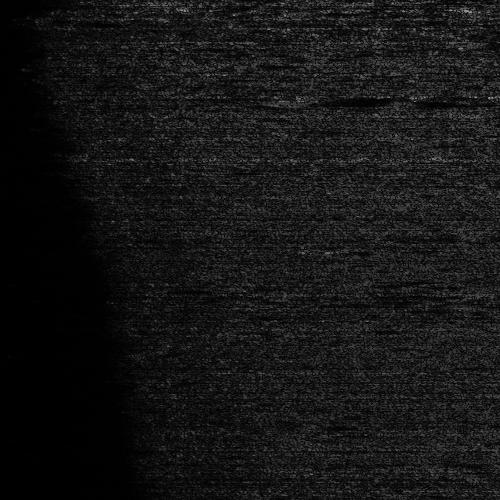rock: (270, 95, 333, 104), (454, 1, 500, 10)
shadow: (302, 95, 394, 104)
